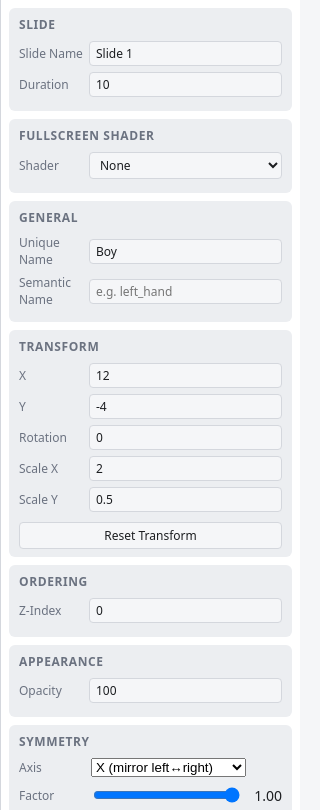
InspectorPanel transform auto-key editing › rejects NaN and Infinity input with a notification and leaves the engine unchanged
Replace the text in the number field labelled "X" with "abc" at (186, 376), box [89,363,282,388]
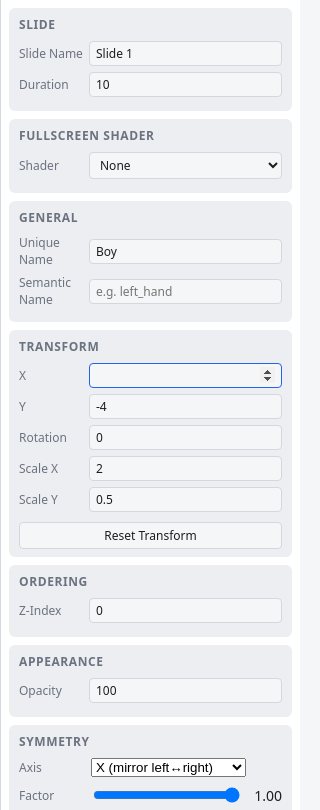
Press Enter
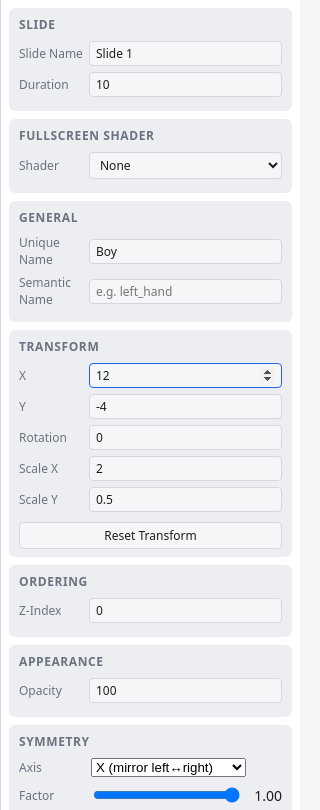
Check: the number field labelled "X" holds "12", box [89,363,282,388]
